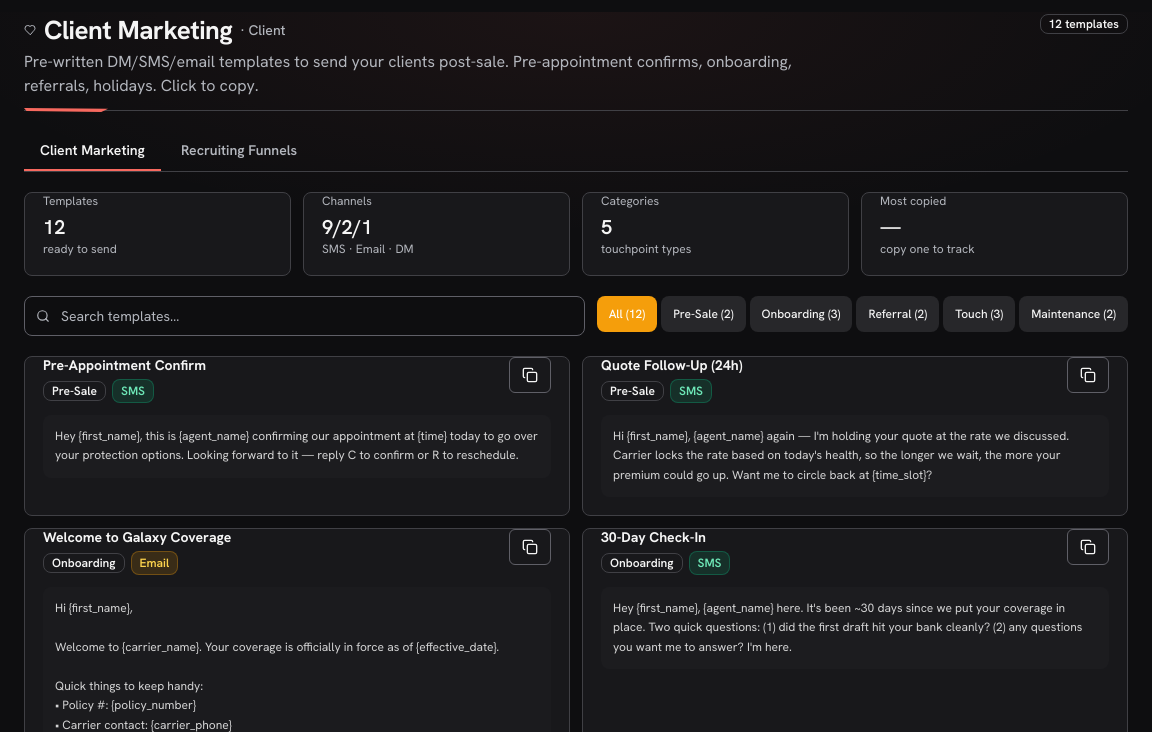
Test: Client Marketing recruiting access and counts › unmounts pending reads when the tab is closed and never displays loading counts as zeros
Click the button "Recruiting Funnels" at (239, 151), box [165,131,313,171]
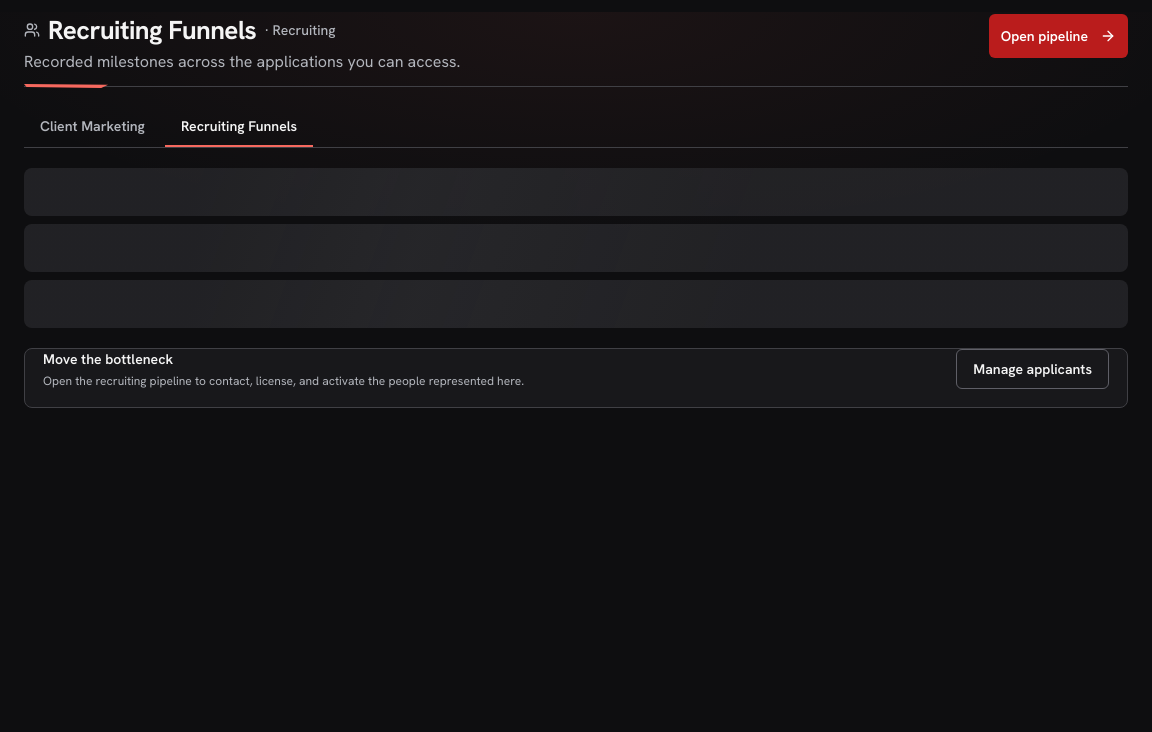
Click the button "Client Marketing" at (92, 127), box [24,107,161,147]
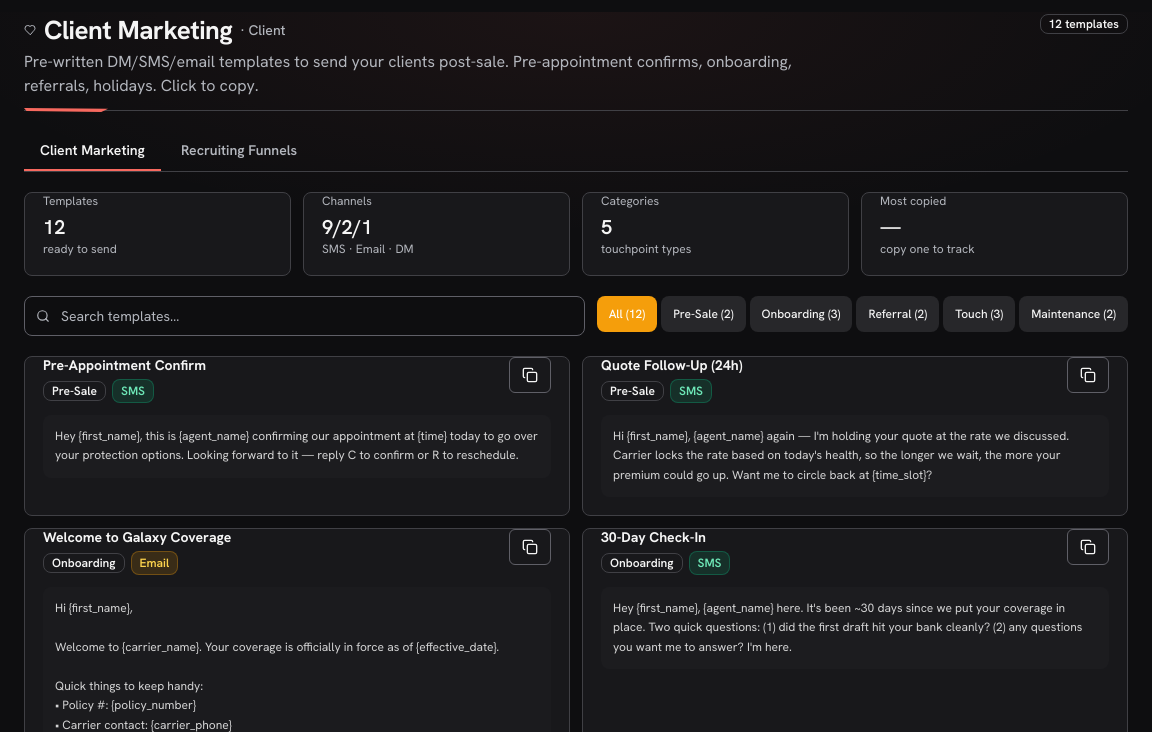
expect the heading "Client Marketing" is shown: met, box [44,14,232,46]
